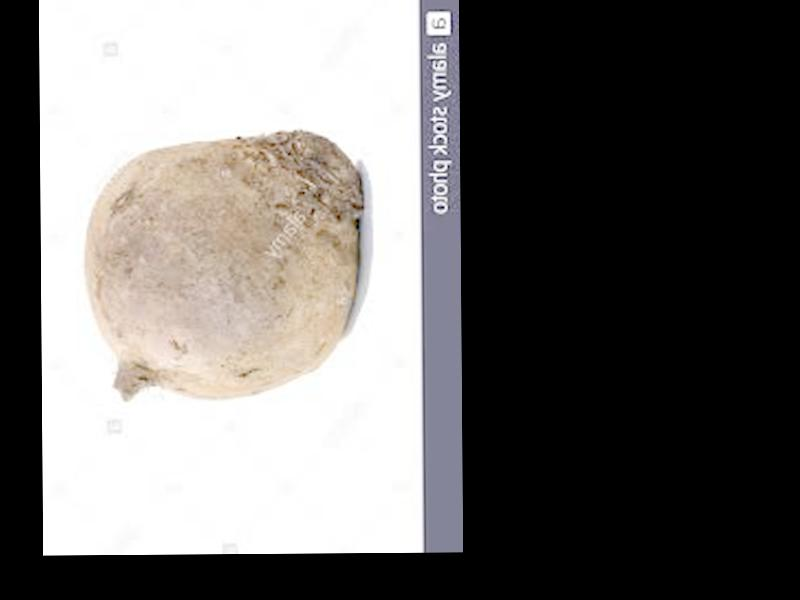Beet: (84, 131, 363, 402)
